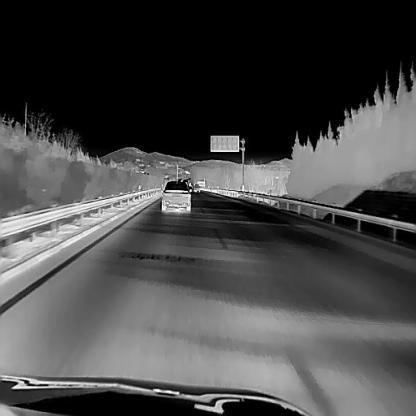car: (161, 180, 191, 212), (192, 183, 200, 191)
